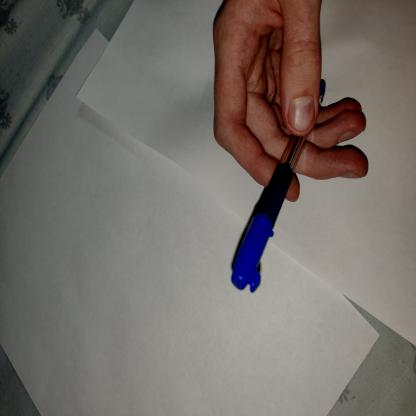pen: (163, 39, 372, 331)
